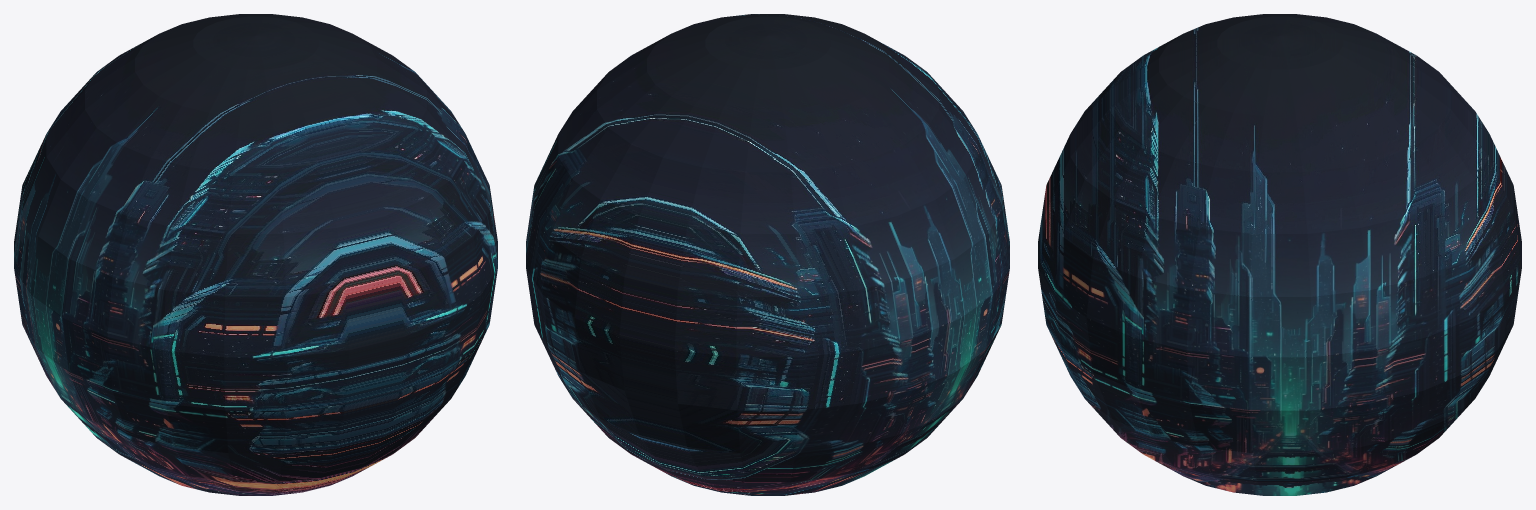
The model's file is SkyBoxCityFixed.gltf.
The picture shows the model from 3 angles, left to right: view 1: azimuth 30°, elevation 25°; view 2: azimuth 150°, elevation 25°; view 3: azimuth 270°, elevation 25°; orthographic projection.
Visible parts, largest first — view 1: sphere; view 2: sphere; view 3: sphere.
Part boxes in pixels (box(x1,y1,x2,y2)): sphere: box(14, 14, 497, 495); sphere: box(526, 14, 1009, 495); sphere: box(1038, 14, 1521, 495).
Bounding box in the file's own units: 2 × 2 × 2.
1 material, 1 textured.
